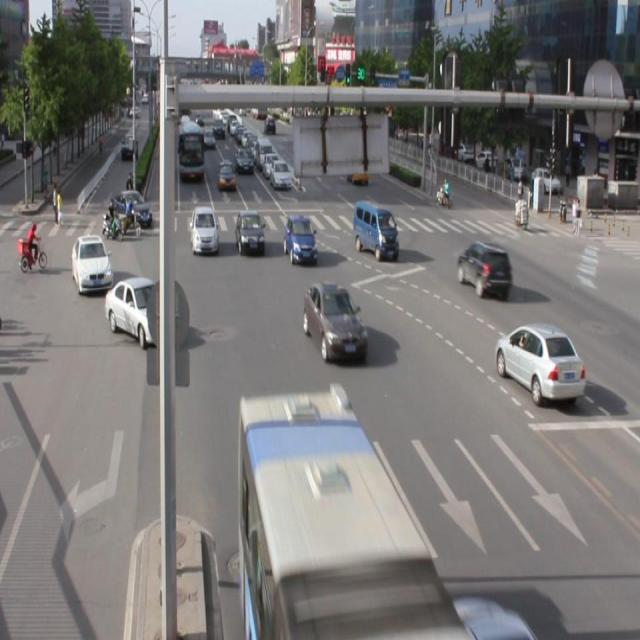car: (494, 322, 584, 405), (303, 283, 367, 361), (104, 276, 172, 349), (458, 239, 512, 299), (284, 212, 317, 262), (190, 207, 219, 255), (235, 210, 265, 256)
truck: (353, 200, 398, 260)
van: (238, 394, 468, 640)
